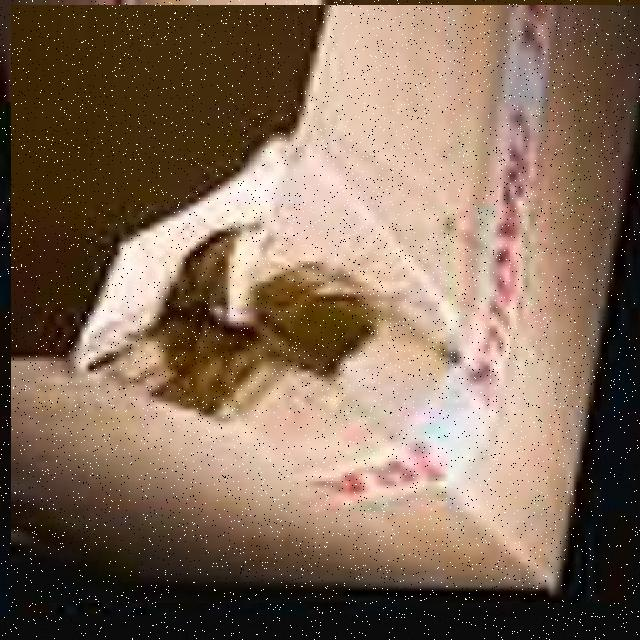defect: (11, 5, 640, 603)
